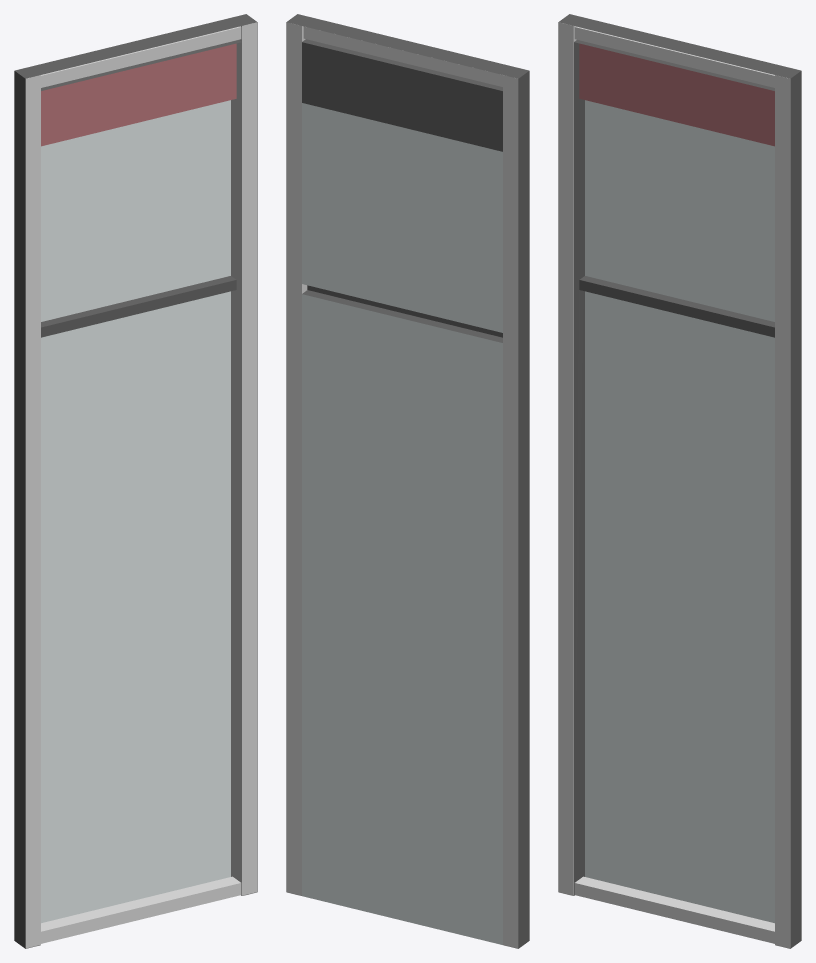
Rendered from window02.fbx.
3 renders of one model, left to right at view 1: azimuth 30°, elevation 25°; view 2: azimuth 150°, elevation 25°; view 3: azimuth 330°, elevation 25°, orthographic.
Visible parts, largest first — view 1: galss, window02, cube.002, cube.001, cube, cube.003; view 2: galss, window02, cube.002, cube.001, cube.003; view 3: galss, window02, cube.001, cube.002, cube, cube.003.
Part boxes in pixels (bbox=[...]): galss: bbox=[41, 100, 230, 923]; window02: bbox=[14, 14, 257, 948]; cube.002: bbox=[231, 22, 257, 895]; cube.001: bbox=[25, 75, 40, 948]; cube: bbox=[41, 876, 241, 943]; cube.003: bbox=[41, 26, 241, 87]; galss: bbox=[302, 103, 502, 944]; window02: bbox=[286, 14, 529, 948]; cube.002: bbox=[286, 22, 307, 895]; cube.001: bbox=[503, 75, 518, 948]; cube.003: bbox=[303, 26, 502, 86]; galss: bbox=[585, 100, 774, 923]; window02: bbox=[558, 14, 801, 948]; cube.001: bbox=[558, 22, 576, 895]; cube.002: bbox=[775, 75, 790, 948]; cube: bbox=[574, 876, 774, 943]; cube.003: bbox=[574, 26, 774, 87].
Bounding box in the file's own units: 120 × 430 × 10.03.
